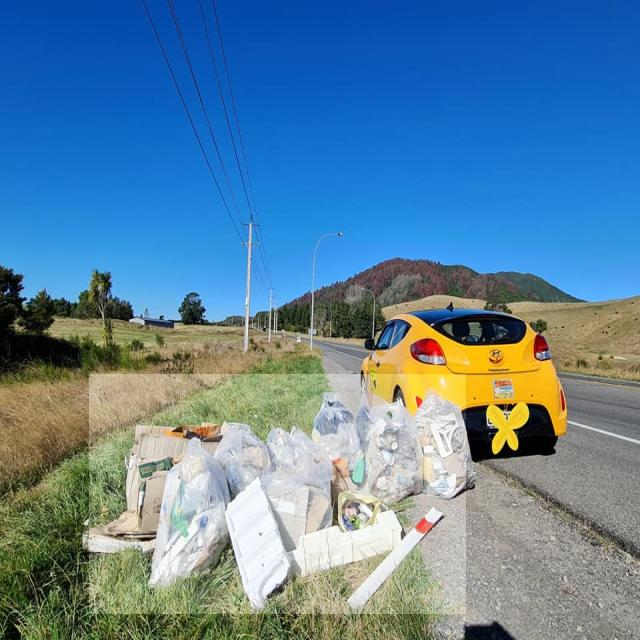dumping: (89, 374, 466, 614)
